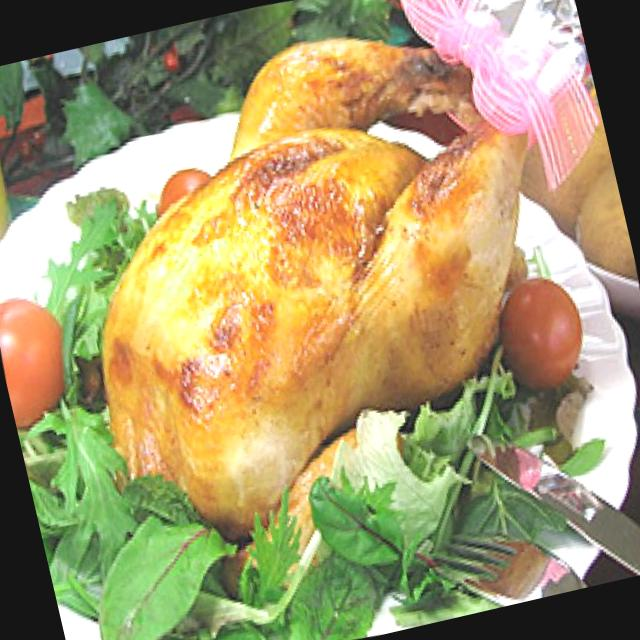Chicken: (26, 0, 563, 496)
Green Salad: (52, 380, 547, 640)
